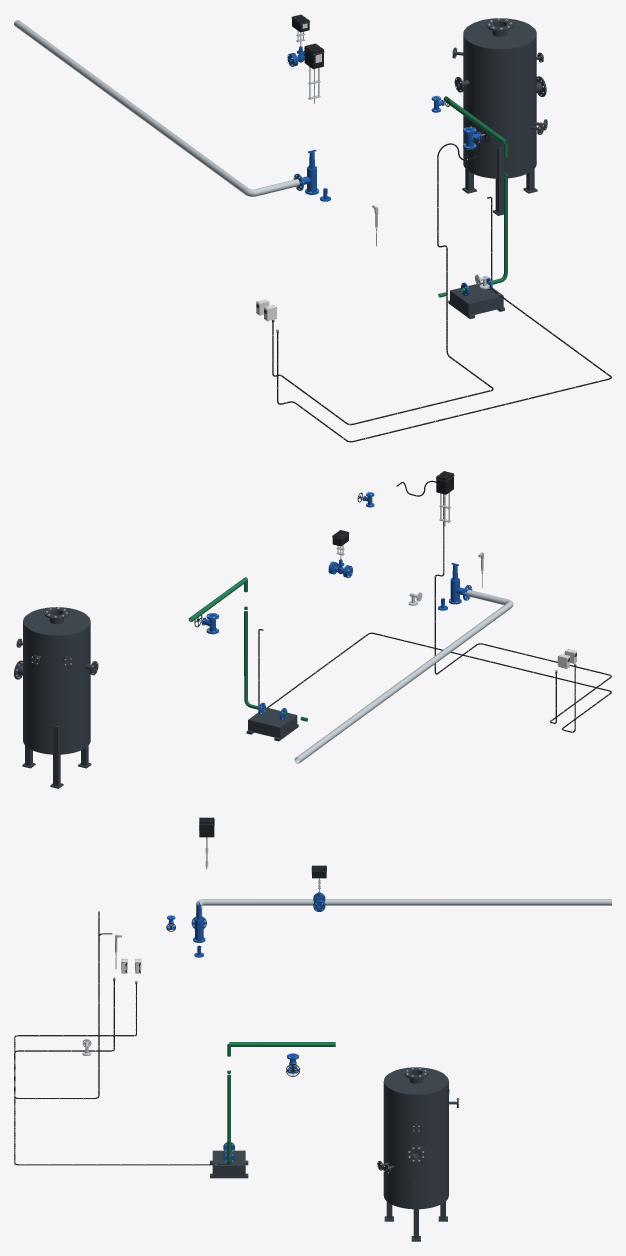
3 views of the same model, one above another, from view 1: azimuth 30°, elevation 25°; view 2: azimuth 150°, elevation 25°; view 3: azimuth 270°, elevation 25° (orthographic). The views are drawn at different scales.
Visible parts, largest first — view 1: separator_bdv60_5 / dark, safety_vent_1 / steel, wiring_pump_1 / black, pump_branch_1 / dark, wiring_pressure_switch_3 / black, pump_branch_1 / green; view 2: separator_bdv60_5 / dark, safety_vent_1 / steel, pump_branch_1 / dark, wiring_pump_1 / black, wiring_pressure_switch_3 / black, pump_branch_1 / green, safety_1 / blue; view 3: separator_bdv60_5 / dark, safety_vent_1 / steel, pump_branch_1 / dark, wiring_pressure_switch_3 / black, wiring_pump_1 / black.
Part boxes in pixels (<box>): separator_bdv60_5 / dark: <box>452,18,547,215</box>; safety_vent_1 / steel: <box>14,20,299,196</box>; wiring_pump_1 / black: <box>277,196,611,442</box>; pump_branch_1 / dark: <box>448,282,504,318</box>; wiring_pressure_switch_3 / black: <box>272,137,493,425</box>; pump_branch_1 / green: <box>438,142,507,297</box>; separator_bdv60_5 / dark: <box>14,607,98,788</box>; safety_vent_1 / steel: <box>294,589,513,763</box>; pump_branch_1 / dark: <box>246,707,298,741</box>; wiring_pump_1 / black: <box>258,629,611,732</box>; wiring_pressure_switch_3 / black: <box>396,480,611,723</box>; pump_branch_1 / green: <box>244,581,307,721</box>; safety_1 / blue: <box>449,563,472,604</box>; separator_bdv60_5 / dark: <box>377,1067,458,1241</box>; safety_vent_1 / steel: <box>196,899,611,916</box>; pump_branch_1 / dark: <box>210,1150,248,1178</box>; wiring_pressure_switch_3 / black: <box>14,911,136,1098</box>; wiring_pump_1 / black: <box>14,981,227,1165</box>.
Bounding box in the file's own units: 5.31 × 3.58 × 7.03.
